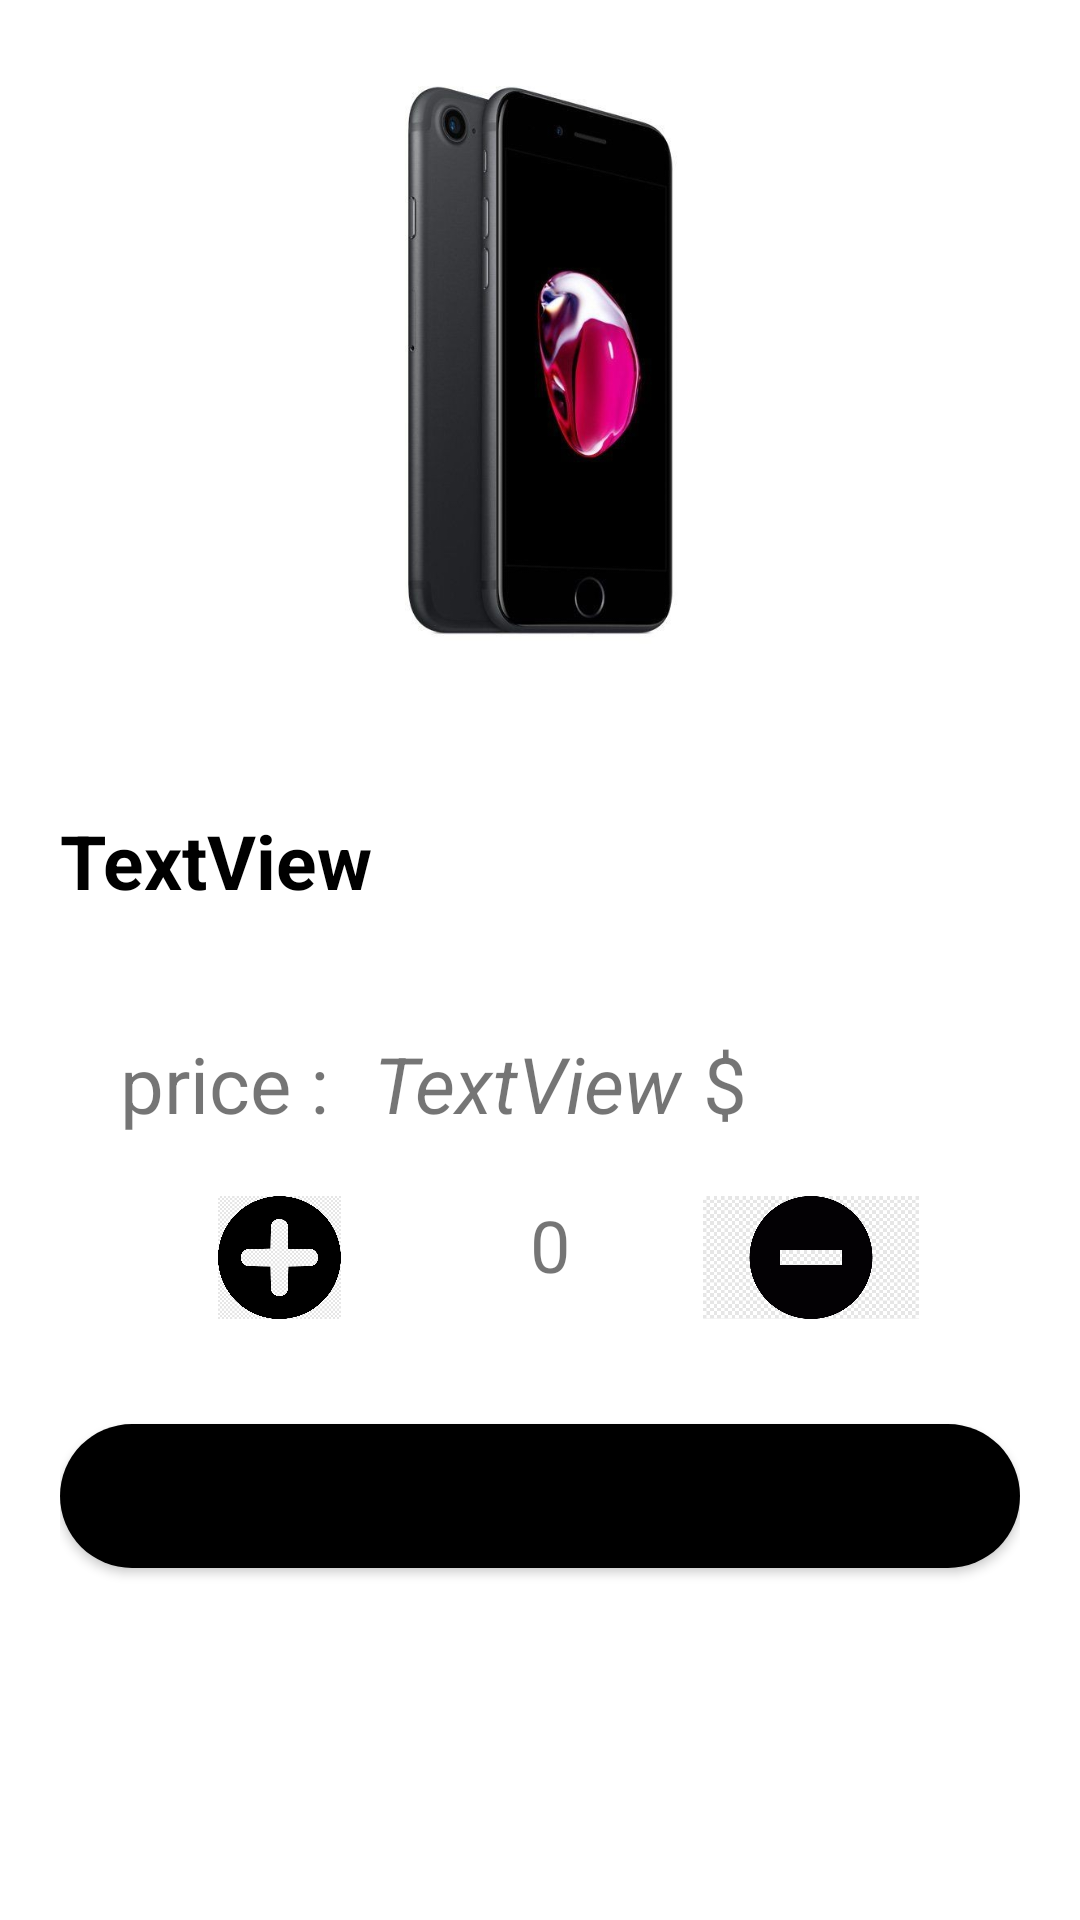

Named icons in this screenshot (1080px×1920px) and their bounding boxes, region(x1, y1, x2, y2):
plus: region(218, 1196, 341, 1319)
